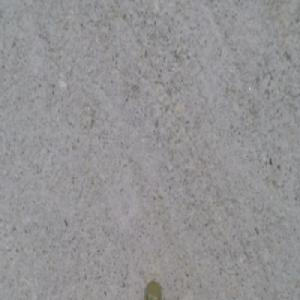BoltNutSet: (144, 280, 162, 299)
